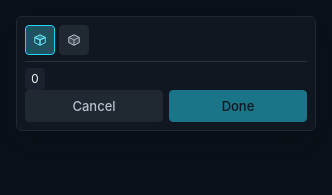
Test: CuttingSessionPanel › shows a commit-blocked reason instead of closing when a commit fails
Click the tab named "Segmentation" at (74, 40), box [59,25,89,55]
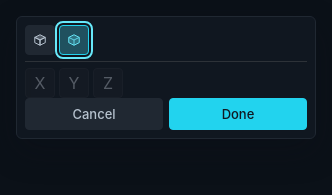
Click the button "Done" at (238, 114), box [169,98,307,130]
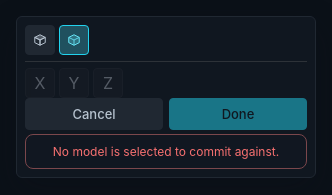
Expected: the message shows "No model is selected", [53,144,279,159]
